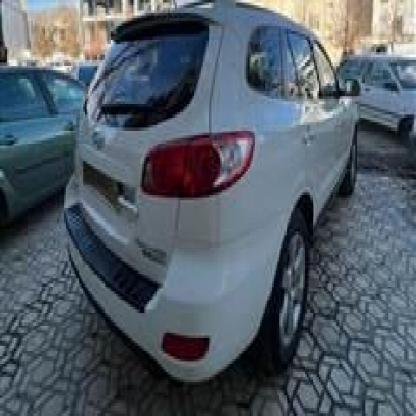Car: (65, 0, 360, 387), (0, 60, 102, 229), (329, 49, 416, 130)
